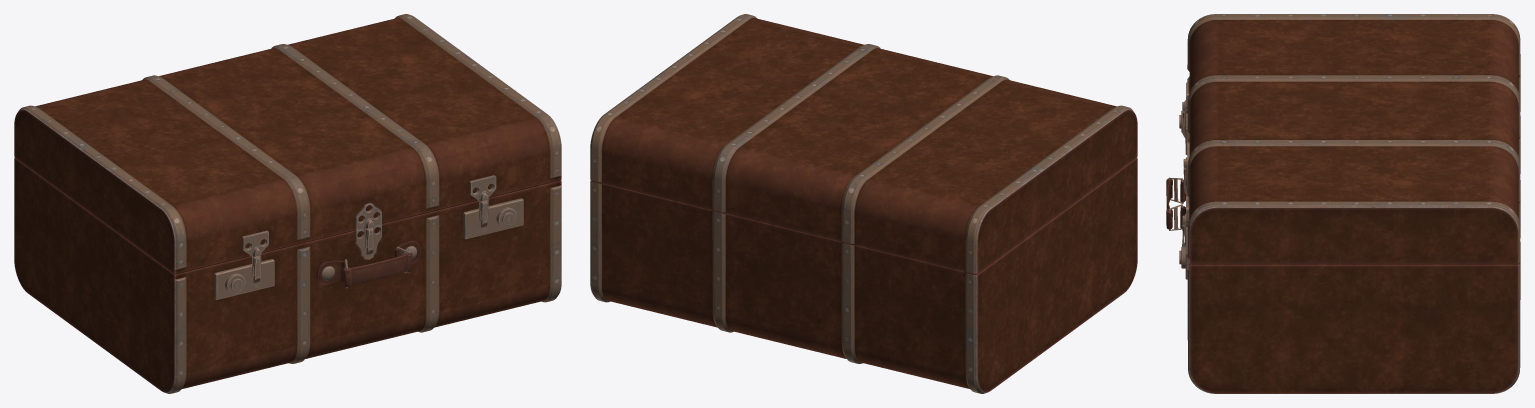
File: old_suitcase.glb
3 renders of one model, left to right at view 1: azimuth 30°, elevation 25°; view 2: azimuth 150°, elevation 25°; view 3: azimuth 270°, elevation 25°, orthographic. The views are drawn at different scales.
Parts seen in each view (by area): view 1: Object_4, Object_3; view 2: Object_4; view 3: Object_4, Object_3.
Part boxes in pixels (x1,y1,x2,y2): Object_4: (14, 14, 561, 393); Object_3: (214, 175, 523, 300); Object_4: (590, 14, 1137, 393); Object_4: (1179, 14, 1520, 393); Object_3: (1166, 82, 1189, 279).
Size of the model in its own units: 0.5158 by 0.2348 by 0.3989.
Materials: 1 (1 with a texture image).
